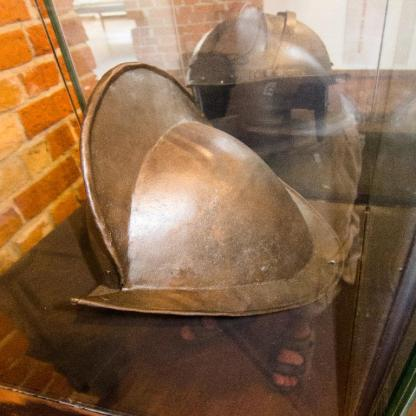Helmet: (67, 58, 351, 320)
